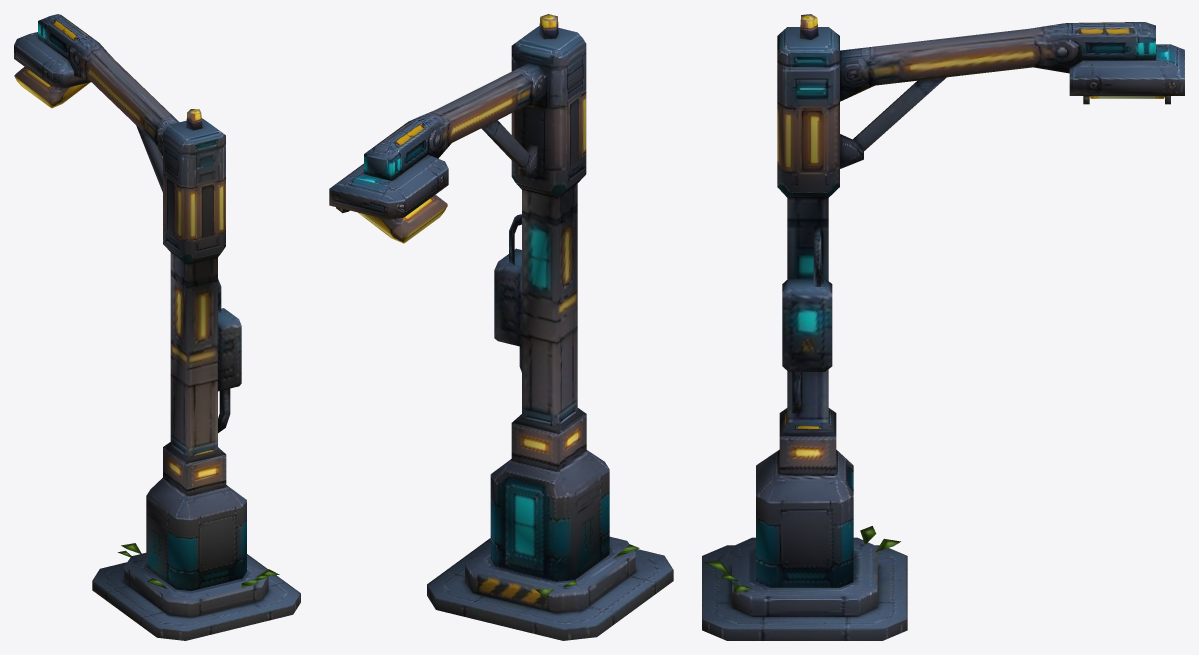
The model's file is street_lamp_02.glb.
3 views of the same model, side by side, from view 1: azimuth 30°, elevation 25°; view 2: azimuth 150°, elevation 25°; view 3: azimuth 270°, elevation 25° (orthographic). The views are drawn at different scales.
Parts seen in each view (by area): view 1: tripo_node_1217ff00-9088-426d-a15a-ba534245cce6; view 2: tripo_node_1217ff00-9088-426d-a15a-ba534245cce6; view 3: tripo_node_1217ff00-9088-426d-a15a-ba534245cce6.
Boxes of the visible parts, x1,y1,x2,y2 form: tripo_node_1217ff00-9088-426d-a15a-ba534245cce6: (14, 14, 300, 640); tripo_node_1217ff00-9088-426d-a15a-ba534245cce6: (329, 14, 673, 640); tripo_node_1217ff00-9088-426d-a15a-ba534245cce6: (702, 14, 1184, 640).
Bounding box in the file's own units: 0.3105 × 0.998 × 0.752.
Materials: 1 (1 with a texture image).
